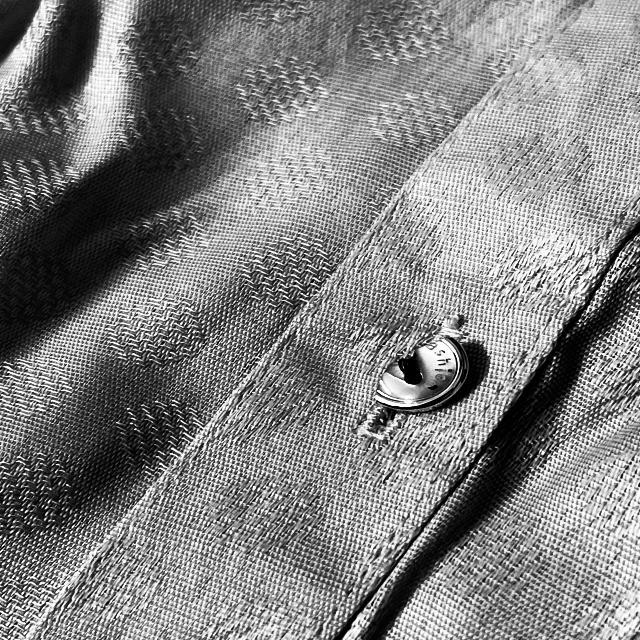Broken_button: (360, 329, 474, 418)
